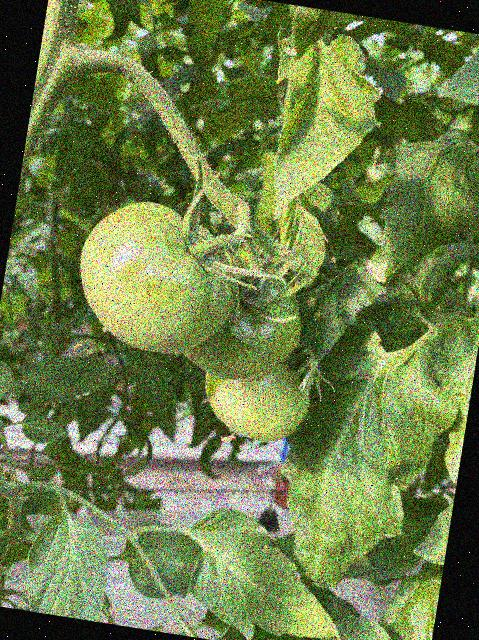b_green: (67, 191, 246, 363), (179, 250, 310, 389), (198, 343, 317, 448)
